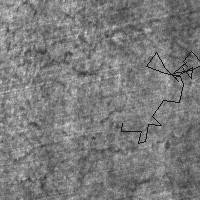crazing: (13, 108, 136, 190), (18, 20, 154, 77), (121, 51, 200, 143)
